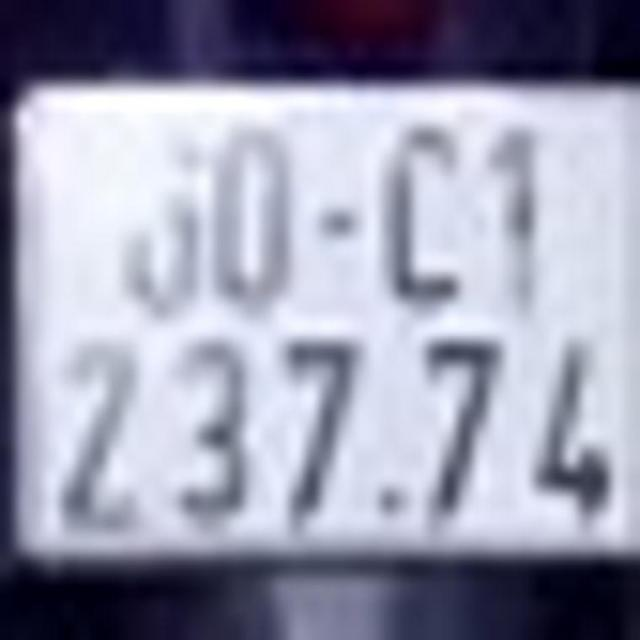0: (213, 122, 299, 313)
1: (488, 121, 548, 313)
2: (56, 334, 139, 516)
3: (175, 335, 246, 514)
4: (536, 342, 613, 532)
6: (115, 123, 202, 319)
7: (420, 330, 503, 543), (287, 343, 359, 520)
C: (382, 124, 468, 311)
